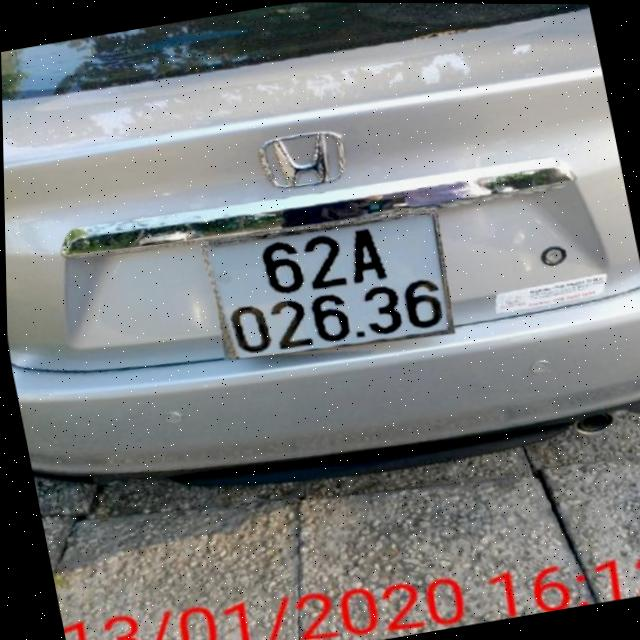car: (0, 0, 640, 563)
plate: (201, 193, 467, 377)
